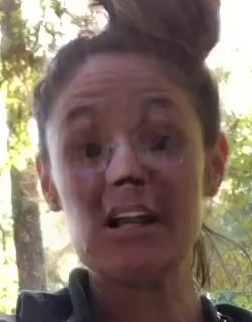n_f: (104, 133, 153, 193)
